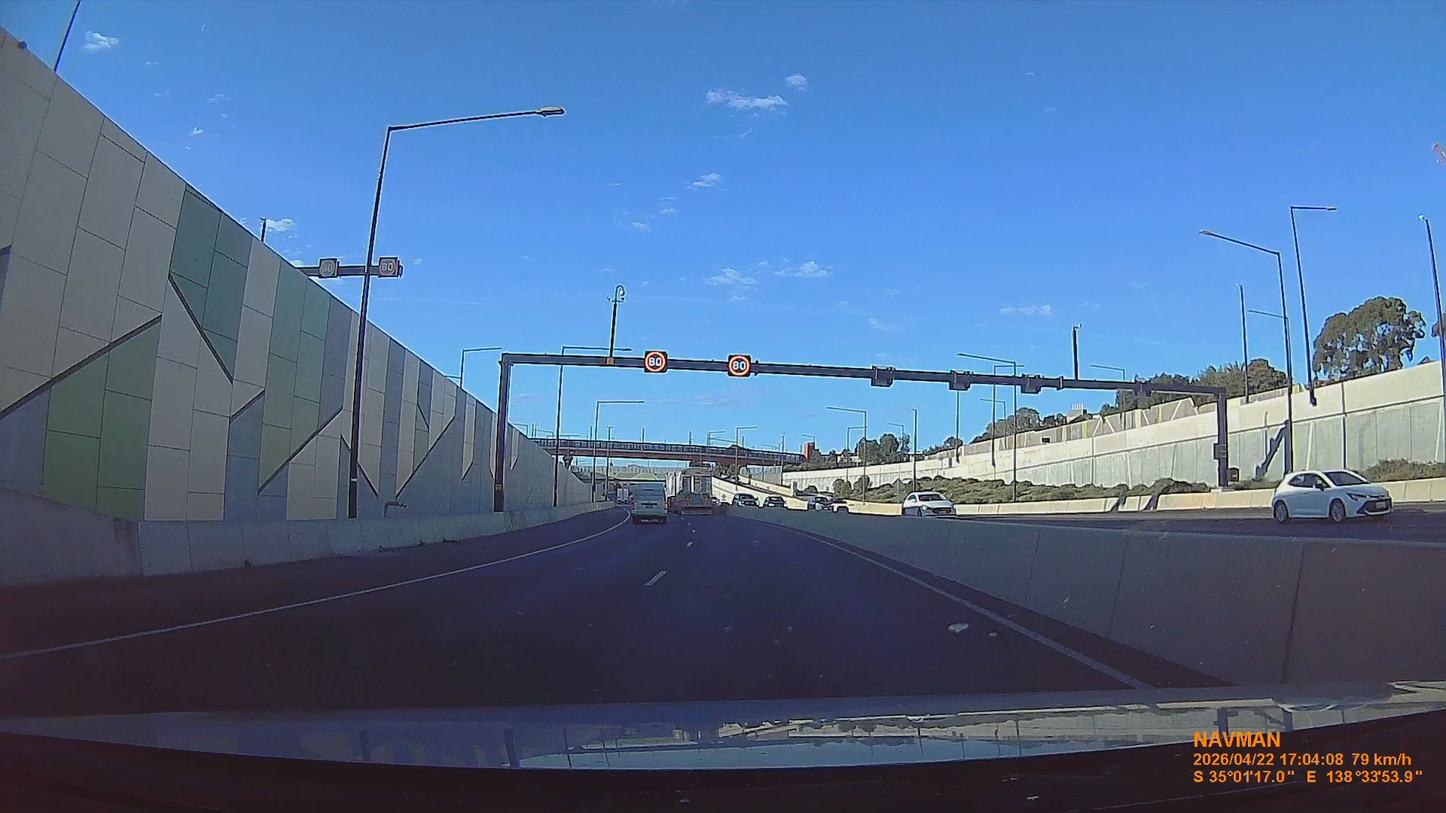road barriers: (960, 498, 1115, 517)
